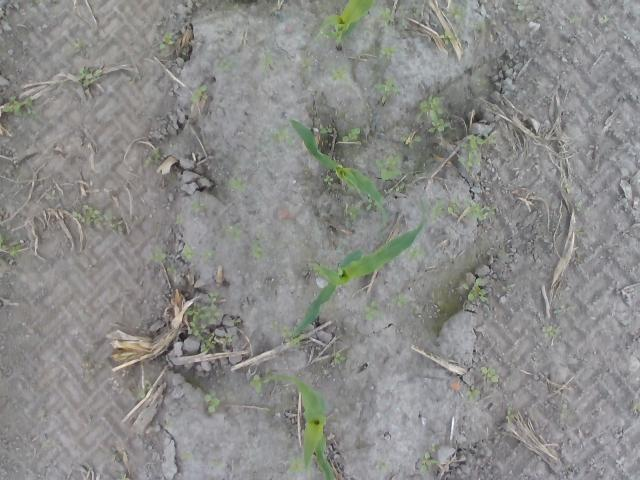Maize: (291, 196, 427, 338), (288, 118, 389, 230), (263, 373, 344, 480), (314, 1, 376, 50)
Weeds: (188, 293, 234, 353), (458, 132, 497, 173), (74, 206, 123, 230), (422, 94, 449, 135), (376, 154, 404, 184), (270, 320, 298, 344), (460, 279, 490, 301), (464, 198, 490, 222), (3, 96, 33, 116), (377, 80, 402, 103), (76, 66, 104, 84), (430, 202, 456, 218), (362, 302, 381, 322), (222, 226, 246, 240), (250, 374, 266, 394), (480, 366, 498, 383), (343, 128, 362, 144), (274, 129, 294, 144), (421, 453, 435, 474), (448, 5, 468, 19), (205, 394, 219, 414), (540, 326, 560, 340), (232, 176, 249, 192), (400, 134, 420, 147), (333, 66, 349, 82), (190, 199, 208, 213), (192, 86, 206, 103), (160, 32, 173, 50), (394, 296, 412, 308), (141, 381, 152, 400), (181, 243, 192, 262), (348, 201, 361, 217), (251, 244, 263, 261), (381, 44, 396, 57), (441, 32, 454, 47), (300, 56, 314, 69), (334, 352, 346, 366), (383, 8, 394, 22), (262, 52, 270, 70), (318, 124, 332, 134), (148, 249, 160, 259), (324, 176, 332, 185)
